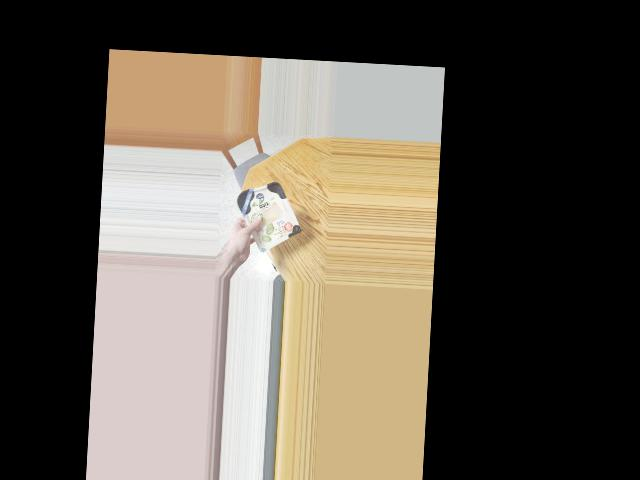cheese: (235, 181, 299, 246)
